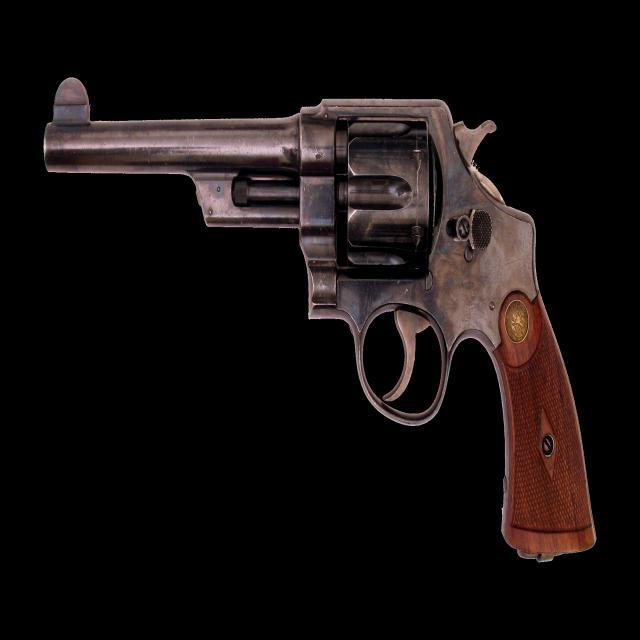Pistol: (25, 49, 614, 606)
